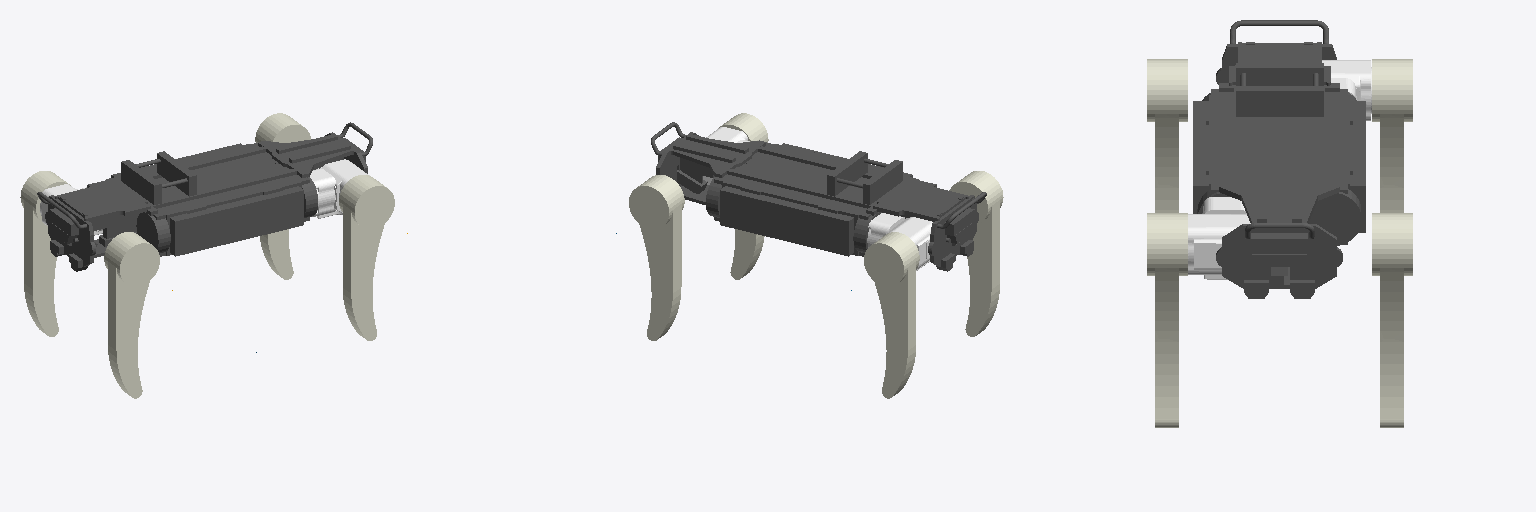
URDF robot description (rbq10):
<?xml version="1.0" encoding="utf-8"?>

<robot name="rbq10">
  <material name="black">
    <color rgba="0.0 0.0 0.0 1.0" />
  </material>
  <material name="blue">
    <color rgba="0.0 0.0 0.8 1.0" />
  </material>
  <material name="green">
    <color rgba="0.0 0.8 0.0 1.0" />
  </material>
  <material name="grey">
    <color rgba="0.2 0.2 0.2 1.0" />
  </material>
  <material name="graygray">
    <color rgba="0.4 0.4 0.4 1" />
  </material>
  <material name="charcoal">
    <color rgba="0.3 0.3 0.3 1.0" />
  </material>
  <material name="silver">
    <color rgba="0.913725490196 0.913725490196 0.847058823529 1.0" />
  </material>
  <material name="orange">
    <color rgba="1.0 0.423529411765 0.0392156862745 1.0" />
  </material>
  <material name="brown">
    <color rgba="0.870588235294 0.811764705882 0.764705882353 1.0" />
  </material>
  <material name="red">
    <color rgba="0.8 0.0 0.0 1.0" />
  </material>
  <material name="white">
    <color rgba="1.0 1.0 1.0 1.0" />
  </material>

  <!-- Trunk -->
  <link name="trunk">
    <inertial>
      <origin xyz="-0.013265 0.0 0.011765" rpy="0 0 0" />
      <mass value="16.758" />
      <inertia
        ixx="0.163831629266"
        ixy="-0.000271071491" iyy="0.590891341306"
        ixz="0.040352639311" iyz="0.000216428332" izz="0.678714788268" />
    </inertial>
    <collision>
      <origin xyz="0.0 0.0 0.0" rpy="0 0 0" />
      <geometry>
        <box size="0.8 0.20 0.12" />
      </geometry>
    </collision>
    <visual>
      <origin xyz="0 0 0" rpy="0 0 0" />
      <geometry> 
        <mesh filename="../meshes/rbq/trunk.stl" scale="1 1 1"/>
      </geometry>
      <material name="graygray">
      </material>
    </visual>
  </link>

  <!-- ========== HR ========== -->
  <link name="HR_hip">
    <inertial>
      <origin xyz="0.027522 -0.01681 -0.00187" rpy="0 0 0" />
      <mass value="3.669344" />
      <inertia
        ixx="0.006957590282"
        ixy="-0.0017011378" iyy="0.00993982268"
        ixz="-0.000029676183" iyz="0.000087952172" izz="0.012145140245" />
    </inertial>
    <visual>
      <origin xyz="0 0 0" rpy="0 0 3.1416" />
      <geometry>
        <mesh filename="../meshes/rbq/hip3.stl" scale="1 1 1"/>
      </geometry>
        <material name="white">
        </material>
    </visual>
  </link>

  <link name="HR_thigh">
    <inertial>
      <origin xyz="-0.004765 -0.00441 -0.06311" rpy="0 0 0" />
      <mass value="1.80014" />
      <inertia
        ixx="0.018990787558"
        ixy="0.000045769435" iyy="0.019770882672"
        ixz="-0.001024809563" iyz="0.000510504233" izz="0.001828257915" />
    </inertial>
    <collision>
      <origin xyz="0 0 0" rpy="1.57 0 0"/>
      <geometry>
        <cylinder length="0.07" radius="0.06"/>
      </geometry>
    </collision>
    <collision>
      <origin rpy="0 0 0" xyz="-0.035 0 -0.125" />
      <geometry>
        <box size="0.05 0.04 0.25" />
      </geometry>
    </collision>
    <visual>
      <origin xyz="0 0 0" rpy="0 0 0" />
      <geometry>
        <mesh filename="../meshes/rbq/thigh.stl" scale="1 1 1"/>
      </geometry>
        <material name="silver">
        </material>
    </visual>
  </link>

  <link name="HR_calf">
    <inertial>
      <origin xyz="0.008988 0.000072 -0.14911" rpy="0 0 0" />
      <mass value="0.4520" />
      <inertia
        ixx="0.00428512"
        ixy="0.000000075939" iyy="0.00433136"
        ixz="0.0000230368745" iyz="0.000009344688" izz="0.0000616440919" />
    </inertial>
    <collision>
      <origin xyz="0 0 -0.065" rpy="0 -0.226893 0"/>
      <geometry>
        <box size="0.02 0.03 0.21"/>
      </geometry>
    </collision>
    <collision>
      <origin xyz="0.02 0 -0.23" rpy="0 0.11 0"/>
      <geometry>
        <box size="0.02 0.03 0.08"/>
      </geometry>
    </collision>
    <visual>
      <origin xyz="0 0 0" rpy="0 0 0" />
      <geometry>
        <mesh filename="../meshes/rbq/calf.stl" scale="1 1 1"/>
      </geometry>
        <material name="silver">
        </material>
    </visual>
  </link>
  
  <link name="HR_foot">
    <inertial>
      <mass value="0.06"/>
      <inertia ixx="9.6e-06" ixy="0.0" ixz="0.0" iyy="9.6e-06" iyz="0.0" izz="9.6e-06"/>
    </inertial>
    <collision>
      <origin xyz="0 0 0" rpy="0 0 0" />
      <geometry>
        <sphere radius="0.03"/>
      </geometry>
    </collision>
    <visual>
      <origin xyz="0 0 0" rpy="0 0 0" />
      <geometry>
        <sphere radius="0.001"/>
      </geometry>
    </visual>
  </link>

  <!-- ========== HL ========== -->
  <link name="HL_hip">
    <inertial>
      <origin xyz="0.027522 0.01681 -0.00187" rpy="0 0 0" />
      <mass value="3.669344" />
      <inertia
        ixx="0.006957590282"
        ixy="0.0017011378" iyy="0.00993982268"
        ixz="-0.000029676183" iyz="-0.000087952172" izz="0.012145140245" />
    </inertial>
    <visual>
      <origin xyz="0 0 0" rpy="0 0 3.141592" />
      <geometry>
        <mesh filename="../meshes/rbq/hip2.stl" scale="1 1 1"/>
      </geometry>
        <material name="white">
        </material>
    </visual>
  </link>

  <link name="HL_thigh">
    <inertial>
      <origin xyz="-0.004765 0.00441 -0.06311" rpy="0 0 0" />
      <mass value="1.80014" />
      <inertia
        ixx="0.018990787558"
        ixy="-0.000045769435" iyy="0.019770882672"
        ixz="-0.001024809563" iyz="-0.000510504233" izz="0.001828257915" />
    </inertial>
    <collision>
      <origin xyz="0 0 0" rpy="1.57 0 0"/>
      <geometry>
        <cylinder length="0.07" radius="0.06"/>
      </geometry>
    </collision>
    <collision>
      <origin rpy="0 0 0" xyz="-0.035 0 -0.125" />
      <geometry>
        <box size="0.05 0.04 0.25" />
      </geometry>
    </collision>
    <visual>
      <origin xyz="0 0 0" rpy="0 0 0" />
      <geometry>
        <mesh filename="../meshes/rbq/thigh.stl" scale="1 1 1"/>
      </geometry>
        <material name="silver">
        </material>
    </visual>
  </link>

  <link name="HL_calf">
    <inertial>
      <origin xyz="0.008988 -0.000072 -0.14911" rpy="0 0 0" />
      <mass value="0.4520" />
      <inertia
        ixx="0.00428512"
        ixy="-0.000000075939" iyy="0.00433136"
        ixz="0.0000230368745" iyz="-0.000009344688" izz="0.0000616440919" />
    </inertial>
    <collision>
      <origin xyz="0 0 -0.065" rpy="0 -0.226893 0"/>
      <geometry>
        <box size="0.02 0.03 0.21"/>
      </geometry>
    </collision>
    <collision>
      <origin xyz="0.02 0 -0.23" rpy="0 0.11 0"/>
      <geometry>
        <box size="0.02 0.03 0.08"/>
      </geometry>
    </collision>
    <visual>
      <origin xyz="0 0 0" rpy="0 0 0" />
      <geometry>
        <mesh filename="../meshes/rbq/calf.stl" scale="1 1 1"/>
      </geometry>
        <material name="silver">
        </material>
    </visual>
  </link>

  <link name="HL_foot">
    <inertial>
      <mass value="0.06"/>
      <inertia ixx="9.6e-06" ixy="0.0" ixz="0.0" iyy="9.6e-06" iyz="0.0" izz="9.6e-06"/>
    </inertial>
    <collision>
      <origin xyz="0 0 0" rpy="0 0 0" />
      <geometry>
        <sphere radius="0.03"/>
      </geometry>
    </collision>
    <visual>
      <origin xyz="0 0 0" rpy="0 0 0" />
      <geometry>
        <sphere radius="0.001"/>
      </geometry>
    </visual>
  </link>

  <!-- ========== FR ========== -->
  <link name="FR_hip">
    <inertial>
      <origin xyz="-0.027522 -0.01681 -0.00187" rpy="0 0 0" />
      <mass value="3.669344" />
      <inertia
        ixx="0.006957590282"
        ixy="0.0017011378" iyy="0.00993982268"
        ixz="0.000029676183" iyz="0.000087952172" izz="0.012145140245" />
    </inertial>
    <visual>
      <origin xyz="0 0 0" rpy="0 0 0" />
      <geometry>
        <mesh filename="../meshes/rbq/hip2.stl" scale="1 1 1"/>
      </geometry>
        <material name="white">
        </material>
    </visual>
  </link>

  <link name="FR_thigh">
    <inertial>
      <origin xyz="-0.004765 -0.00441 -0.06311" rpy="0 0 0" />
      <mass value="1.80014" />
      <inertia
        ixx="0.018990787558"
        ixy="0.000045769435" iyy="0.019770882672"
        ixz="-0.001024809563" iyz="0.000510504233" izz="0.001828257915" />
    </inertial>
    <collision>
      <origin xyz="0 0 0" rpy="1.57 0 0"/>
      <geometry>
        <cylinder length="0.07" radius="0.06"/>
      </geometry>
    </collision>
    <collision>
      <origin rpy="0 0 0" xyz="-0.035 0 -0.125" />
      <geometry>
        <box size="0.05 0.04 0.25" />
      </geometry>
    </collision>
    <visual>
      <origin xyz="0 0 0" rpy="0 0 0" />
      <geometry>
        <mesh filename="../meshes/rbq/thigh.stl" scale="1 1 1"/>
      </geometry>
        <material name="silver">
        </material>
    </visual>
  </link>

  <link name="FR_calf">
    <inertial>
      <origin xyz="0.008988 0.000072 -0.14911" rpy="0 0 0" />
      <mass value="0.4520" />
      <inertia
        ixx="0.00428512"
        ixy="0.000000075939" iyy="0.00433136"
        ixz="0.0000230368745" iyz="0.000009344688" izz="0.0000616440919" />
    </inertial>
    <collision>
      <origin xyz="0 0 -0.065" rpy="0 -0.226893 0"/>
      <geometry>
        <box size="0.02 0.03 0.21"/>
      </geometry>
    </collision>
    <collision>
      <origin xyz="0.02 0 -0.23" rpy="0 0.11 0"/>
      <geometry>
        <box size="0.02 0.03 0.08"/>
      </geometry>
    </collision>
    <visual>
      <origin xyz="0 0 0" rpy="0 0 0" />
      <geometry>
        <mesh filename="../meshes/rbq/calf.stl" scale="1 1 1"/>
      </geometry>
        <material name="silver">
        </material>
    </visual>
  </link>
  
  <link name="FR_foot">
    <inertial>
      <mass value="0.06"/>
      <inertia ixx="9.6e-06" ixy="0.0" ixz="0.0" iyy="9.6e-06" iyz="0.0" izz="9.6e-06"/>
    </inertial>
    <collision>
      <origin xyz="0 0 0" rpy="0 0 0" />
      <geometry>
        <sphere radius="0.03"/>
      </geometry>
    </collision>
    <visual>
      <origin xyz="0 0 0" rpy="0 0 0" />
      <geometry>
        <sphere radius="0.001"/>
      </geometry>
    </visual>
  </link>

  <!-- ========== FL ========== -->
  <link name="FL_hip">
    <inertial>
      <origin xyz="-0.027522 0.01681 -0.00187" rpy="0 0 0" />
      <mass value="3.669344" />
      <inertia
        ixx="0.006957590282"
        ixy="-0.0017011378" iyy="0.00993982268"
        ixz="0.000029676183" iyz="-0.000087952172" izz="0.012145140245" />
    </inertial>
    <visual>
      <origin xyz="0 0 0" rpy="0 0 0" />
      <geometry>
        <mesh filename="../meshes/rbq/hip3.stl" scale="1 1 1"/>
      </geometry>
        <material name="white">
        </material>
    </visual>
  </link>

  <link name="FL_thigh">
    <inertial>
      <origin xyz="-0.004765 0.00441 -0.06311" rpy="0 0 0" />
      <mass value="1.80014" />
      <inertia
        ixx="0.018990787558"
        ixy="-0.000045769435" iyy="0.019770882672"
        ixz="-0.001024809563" iyz="-0.000510504233" izz="0.001828257915" />
    </inertial>
    <collision>
      <origin xyz="0 0 0" rpy="1.57 0 0"/>
      <geometry>
        <cylinder length="0.07" radius="0.06"/>
      </geometry>
    </collision>
    <collision>
      <origin rpy="0 0 0" xyz="-0.035 0 -0.125" />
      <geometry>
        <box size="0.05 0.04 0.25" />
      </geometry>
    </collision>
    <visual>
      <origin xyz="0 0 0" rpy="0 0 0" />
      <geometry>
        <mesh filename="../meshes/rbq/thigh.stl" scale="1 1 1"/>
      </geometry>
        <material name="silver">
        </material>
    </visual>
  </link>

  <link name="FL_calf">
    <inertial>
      <origin xyz="0.008988 -0.000072 -0.14911" rpy="0 0 0" />
      <mass value="0.4520" />
      <inertia
        ixx="0.00428512"
        ixy="-0.000000075939" iyy="0.00433136"
        ixz="0.0000230368745" iyz="-0.000009344688" izz="0.0000616440919" />
    </inertial>
    <collision>
      <origin xyz="0 0 -0.065" rpy="0 -0.226893 0"/>
      <geometry>
        <box size="0.02 0.03 0.21"/>
      </geometry>
    </collision>
    <collision>
      <origin xyz="0.02 0 -0.23" rpy="0 0.11 0"/>
      <geometry>
        <box size="0.02 0.03 0.08"/>
      </geometry>
    </collision>
    <visual>
      <origin xyz="0 0 0" rpy="0 0 0" />
      <geometry>
        <mesh filename="../meshes/rbq/calf.stl" scale="1 1 1"/>
      </geometry>
        <material name="silver">
        </material>
    </visual>
  </link>

  <link name="FL_foot">
    <inertial>
      <mass value="0.06"/>
      <inertia ixx="9.6e-06" ixy="0.0" ixz="0.0" iyy="9.6e-06" iyz="0.0" izz="9.6e-06"/>
    </inertial>
    <collision>
      <origin xyz="0 0 0" rpy="0 0 0" />
      <geometry>
        <sphere radius="0.03"/>
      </geometry>
    </collision>
    <visual>
      <origin xyz="0 0 0" rpy="0 0 0" />
      <geometry>
        <sphere radius="0.001"/>
      </geometry>
    </visual>
  </link>

  <!-- ===== JOINT ===== -->
  <joint name="joint0_HRR" type="revolute">
    <origin xyz="-0.31218 -0.09 0" rpy="0 0 0" />
    <parent link="trunk" />
    <child link="HR_hip" />
    <axis xyz="1 0 0" />
    <dynamics damping="0" friction="0" rotor_inertia="0.014058"/>
    <limit effort="100"  velocity="50" lower="-0.7330" upper="0.5411" />
  </joint>

  <joint name="joint1_HRP" type="revolute">
    <origin xyz="0 -0.10285 0" rpy="0 0 0" />
    <parent link="HR_hip" />
    <child link="HR_thigh" />
    <axis xyz="0 1 0" />
    <dynamics damping="0" friction="0" rotor_inertia="0.014058"/>
    <limit effort="100" velocity="50" lower="-6.2832" upper="6.2832"/>
  </joint>

  <joint name="joint2_HRK" type="revolute">
    <origin xyz="0 0 -0.33" rpy="0 0 0" />
    <parent link="HR_thigh" />
    <child link="HR_calf" />
    <axis xyz="0 1 0" />
    <dynamics damping="0" friction="0" rotor_inertia="0.0214816"/>
    <limit effort="150"  velocity="50" lower="-2.8274" upper="-0.4189" />
  </joint>

  <joint name="foot_joint_HRF" type="fixed" dont_collapse="true">
    <origin xyz="0 0 -0.33" rpy="0 0 0" />
    <parent link="HR_calf" />
    <child link="HR_foot" />
  </joint>

  <joint name="joint3_HLR" type="revolute">
    <origin xyz="-0.31218 0.09 0" rpy="0 0 0" />
    <parent link="trunk" />
    <child link="HL_hip" />
    <axis xyz="1 0 0" />
    <dynamics damping="0" friction="0" rotor_inertia="0.014058"/>
    <limit effort="100"  velocity="50" lower="-0.5411" upper="0.7330" />
  </joint>

  <joint name="joint4_HLP" type="revolute">
    <origin xyz="0 0.10285 0" rpy="0 0 0" />
    <parent link="HL_hip" />
    <child link="HL_thigh" />
    <axis xyz="0 1 0" />
    <dynamics damping="0" friction="0" rotor_inertia="0.014058"/>
    <limit effort="100" velocity="50" lower="-6.2832" upper="6.2832"/>
  </joint>

  <joint name="joint5_HLK" type="revolute">
    <origin xyz="0 0 -0.33" rpy="0 0 0" />
    <parent link="HL_thigh" />
    <child link="HL_calf" />
    <axis xyz="0 1 0" />
    <dynamics damping="0" friction="0" rotor_inertia="0.0214816"/>
    <limit effort="150"  velocity="50" lower="-2.8274" upper="-0.4189" />
  </joint>

  <joint name="foot_joint_HLF" type="fixed" dont_collapse="true">
    <origin xyz="0 0 -0.33" rpy="0 0 0" />
    <parent link="HL_calf" />
    <child link="HL_foot" />
  </joint>

  <joint name="joint6_FRR" type="revolute">
    <origin xyz="0.31218 -0.09 0" rpy="0 0 0" />
    <parent link="trunk" />
    <child link="FR_hip" />
    <axis xyz="1 0 0" />
    <dynamics damping="0" friction="0" rotor_inertia="0.014058"/>
    <limit effort="100"  velocity="50" lower="-0.7330" upper="0.5411" />
  </joint>

  <joint name="joint7_FRP" type="revolute">
    <origin xyz="0 -0.10285 0" rpy="0 0 0" />
    <parent link="FR_hip" />
    <child link="FR_thigh" />
    <axis xyz="0 1 0" />
    <dynamics damping="0" friction="0" rotor_inertia="0.014058"/>
    <limit effort="100" velocity="50" lower="-6.2832" upper="6.2832"/>
  </joint>

  <joint name="joint8_FRK" type="revolute">
    <origin xyz="0 0 -0.33" rpy="0 0 0" />
    <parent link="FR_thigh" />
    <child link="FR_calf" />
    <axis xyz="0 1 0" />
    <dynamics damping="0" friction="0" rotor_inertia="0.0214816"/>
    <limit effort="150"  velocity="50" lower="-2.8274" upper="-0.4189" />
  </joint>

  <joint name="foot_joint_FRF" type="fixed" dont_collapse="true">
    <origin xyz="0 0 -0.33" rpy="0 0 0" />
    <parent link="FR_calf" />
    <child link="FR_foot" />
  </joint>
  
  <joint name="joint9_FLR" type="revolute">
    <origin xyz="0.31218 0.09 0" rpy="0 0 0" />
    <parent link="trunk" />
    <child link="FL_hip" />
    <axis xyz="1 0 0" />
    <dynamics damping="0" friction="0" rotor_inertia="0.014058"/>
    <limit effort="100"  velocity="50" lower="-0.5411" upper="0.7330" />
  </joint>

  <joint name="joint10_FLP" type="revolute">
    <origin xyz="0 0.10285 0" rpy="0 0 0" />
    <parent link="FL_hip" />
    <child link="FL_thigh" />
    <axis xyz="0 1 0" />
    <dynamics damping="0" friction="0" rotor_inertia="0.014058"/>
    <limit effort="100" velocity="50" lower="-6.2832" upper="6.2832"/>
  </joint>

  <joint name="joint11_FLK" type="revolute">
    <origin xyz="0 0 -0.33" rpy="0 0 0" />
    <parent link="FL_thigh" />
    <child link="FL_calf" />
    <axis xyz="0 1 0" />
    <dynamics damping="0" friction="0" rotor_inertia="0.0214816" />
    <limit effort="150"  velocity="50" lower="-2.8274" upper="-0.4189" />
  </joint>

  <joint name="foot_joint_FLF" type="fixed" dont_collapse="true">
    <origin xyz="0 0 -0.33" rpy="0 0 0" />
    <parent link="FL_calf" />
    <child link="FL_foot" />
  </joint>

</robot>

--- Facts derived from the render (not from the file) ---
3 views of the same robot in one strip: view 1: azimuth 30°, elevation 25°; view 2: azimuth 150°, elevation 25°; view 3: azimuth 270°, elevation 25° (orthographic).
Model rbq10 with 17 links and 16 joints (12 revolute, 4 fixed), rooted at trunk, posed joints at zero except 4 at the middle of their limits (joint2_HRK = -1.62, joint5_HLK = -1.62, joint8_FRK = -1.62, joint11_FLK = -1.62).
Links seen in each view (by area): view 1: trunk, HR_thigh, FR_thigh, HL_thigh, FL_thigh, FR_hip; view 2: trunk, FL_thigh, HL_thigh, HR_thigh, FR_thigh, HL_hip; view 3: trunk, FR_thigh, FL_thigh, HR_thigh, HL_thigh, FR_hip, HL_hip.
Boxes of the visible links, x1,y1,x2,y2 form: trunk: [37, 122, 372, 271]; HR_thigh: [104, 232, 159, 398]; FR_thigh: [339, 175, 394, 340]; HL_thigh: [20, 171, 70, 336]; FL_thigh: [255, 113, 310, 279]; FR_hip: [310, 159, 369, 218]; trunk: [651, 122, 986, 271]; FL_thigh: [629, 175, 684, 340]; HL_thigh: [864, 232, 919, 398]; HR_thigh: [949, 171, 1003, 336]; FR_thigh: [719, 113, 768, 279]; HL_hip: [867, 213, 932, 270]; trunk: [1193, 20, 1365, 298]; FR_thigh: [1147, 213, 1187, 427]; FL_thigh: [1372, 213, 1412, 427]; HR_thigh: [1147, 59, 1187, 212]; HL_thigh: [1372, 59, 1412, 212]; FR_hip: [1188, 197, 1250, 279]; HL_hip: [1322, 60, 1371, 120].
Size in the robot's own frame: 1.05 by 0.4572 by 0.4562 metres.
7 mesh visuals loaded from 5 distinct referenced files (3 binary STL); not drawn: 6 (reference not matched to a file when rendering).
